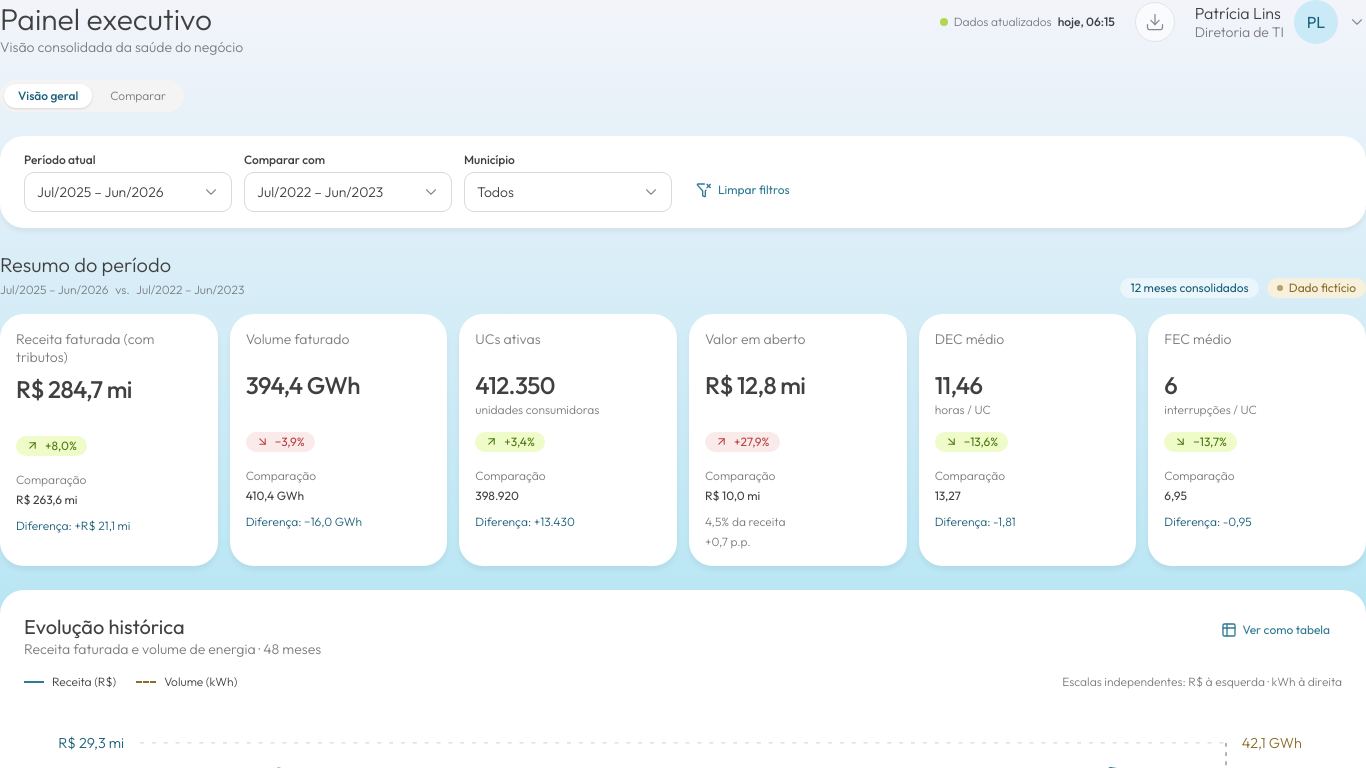
Test: Tela 1 — Painel executivo › não apresenta os números antigos enquanto o novo recorte carrega
The width and height of the screenshot is (1366, 768).
Expected: the element named "Seis indicadores executivos" is shown, [0,314,1365,566]
Select "Recife" in the dropdown labelled "Município": (568, 192) [464,172,672,212]
(page scrolled)
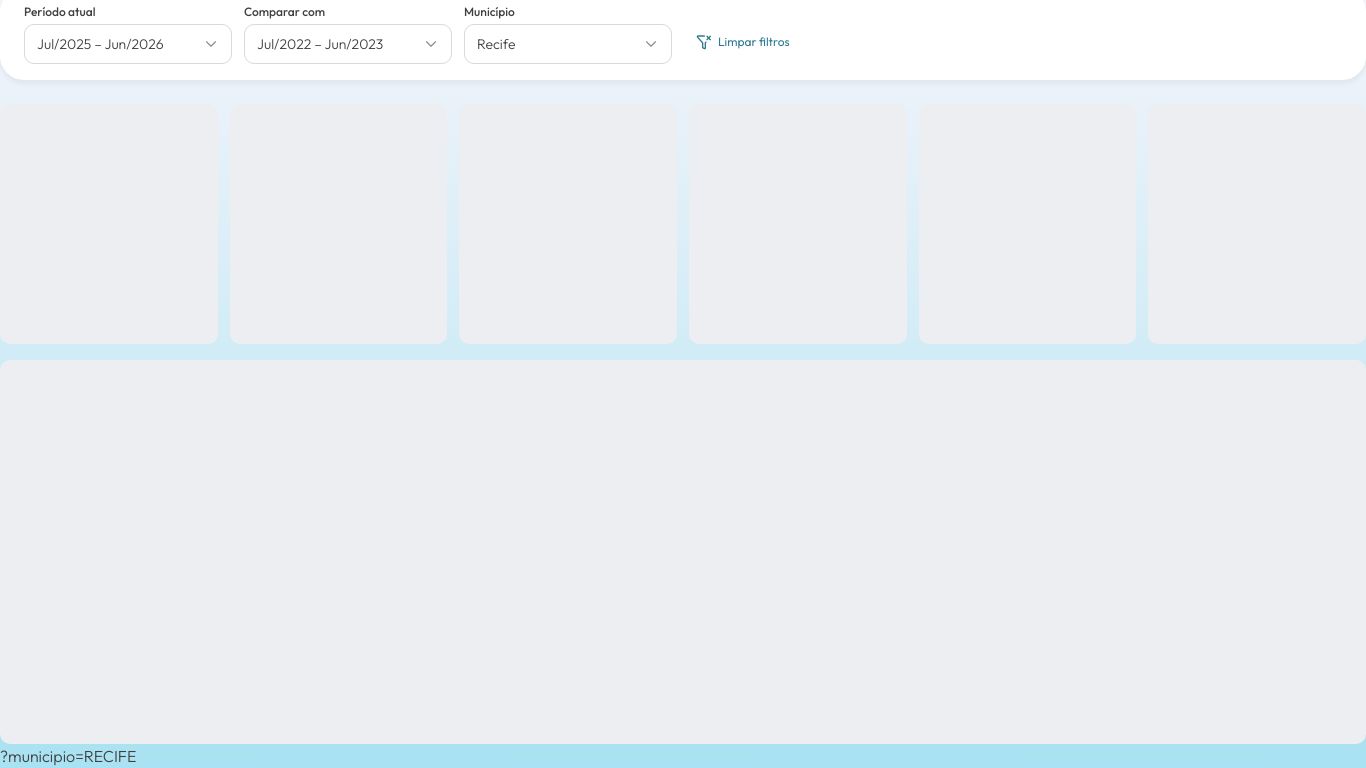
Now the element named "Carregando painel executivo" is shown
